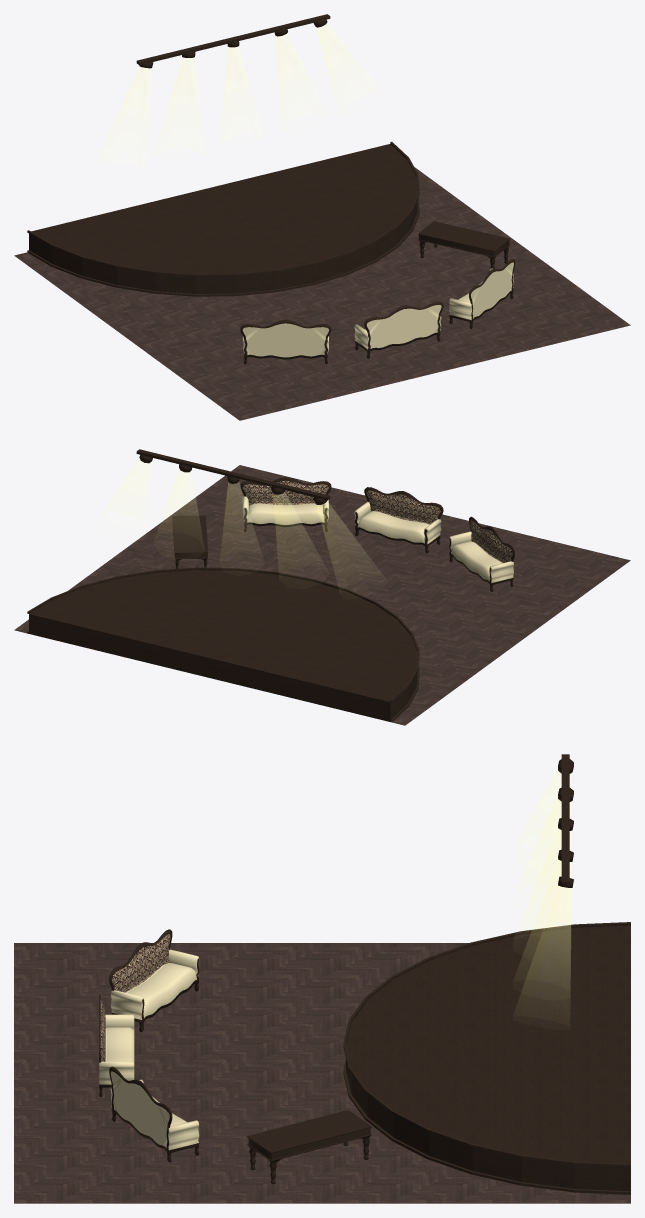
3 renders of one model, top to bottom at view 1: azimuth 30°, elevation 25°; view 2: azimuth 150°, elevation 25°; view 3: azimuth 270°, elevation 25°, orthographic. The views are drawn at different scales.
Visible parts, largest first — view 1: Floor, Stage, Lights, Sofa1, Sofa3, Table, Sofa2; view 2: Stage, Floor, Lights, Sofa3, Sofa2, Sofa1, Table; view 3: Floor, Stage, Lights, Sofa1, Table, Sofa2, Sofa3.
Boxes of the visible parts, box(x1,y1,x2,y2) form: Floor: box(14, 167, 630, 420); Stage: box(27, 141, 419, 296); Lights: box(119, 14, 355, 117); Sofa1: box(240, 319, 331, 364); Sofa3: box(354, 301, 443, 358); Table: box(418, 221, 510, 268); Sofa2: box(449, 259, 515, 328); Stage: box(27, 567, 419, 722); Floor: box(14, 465, 630, 725); Lights: box(120, 449, 355, 547); Sofa3: box(354, 487, 443, 553); Sofa2: box(240, 477, 331, 531); Sofa1: box(449, 516, 515, 591); Table: box(172, 515, 208, 568); Floor: box(14, 943, 630, 1203); Stage: box(343, 922, 630, 1194); Lights: box(526, 754, 573, 990); Sofa1: box(109, 929, 199, 1032); Table: box(247, 1110, 371, 1184); Sofa2: box(109, 1066, 199, 1162); Sofa3: box(99, 994, 134, 1096).
Size of what is drawn, in the model's own units: 16 by 7.3 by 16.
4 materials, 4 textured.
